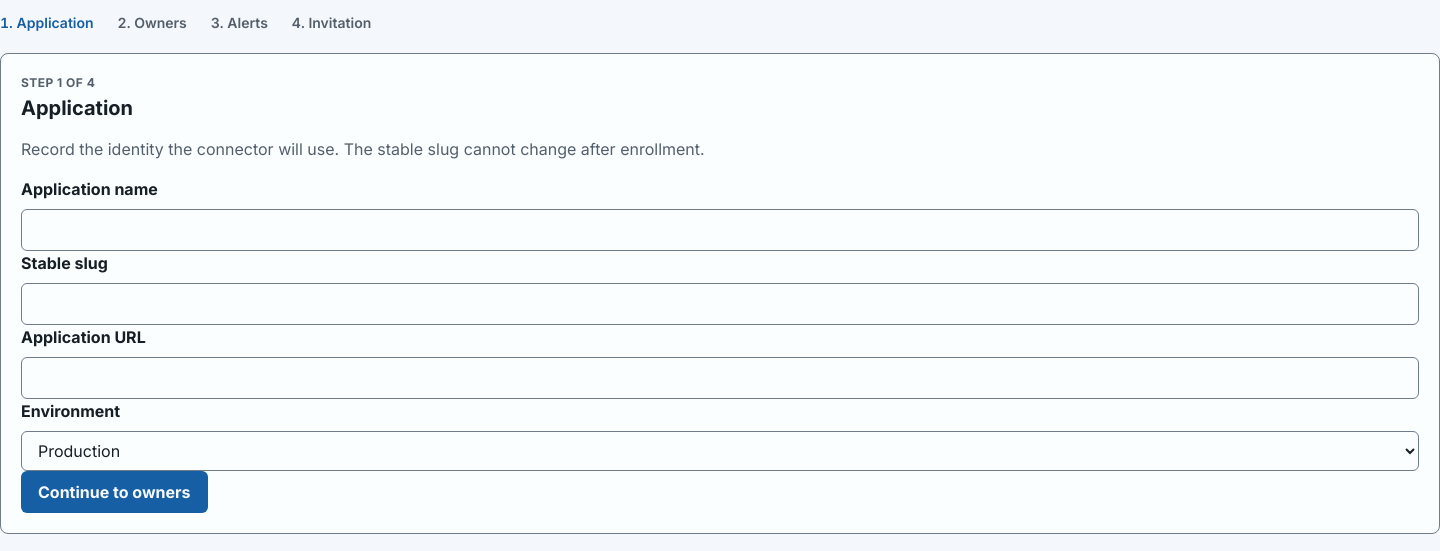
it: application enrollment flow › preserves entered values and reveals the returned invitation without browser persistence
The width and height of the screenshot is (1440, 551).
Step 1. Type "Atlas Checkout" into the field labelled "Application name" → (720, 230), box [21,209,1419,251]
Step 2. Type "atlas-checkout" into the field labelled "Stable slug" → (720, 304), box [21,283,1419,325]
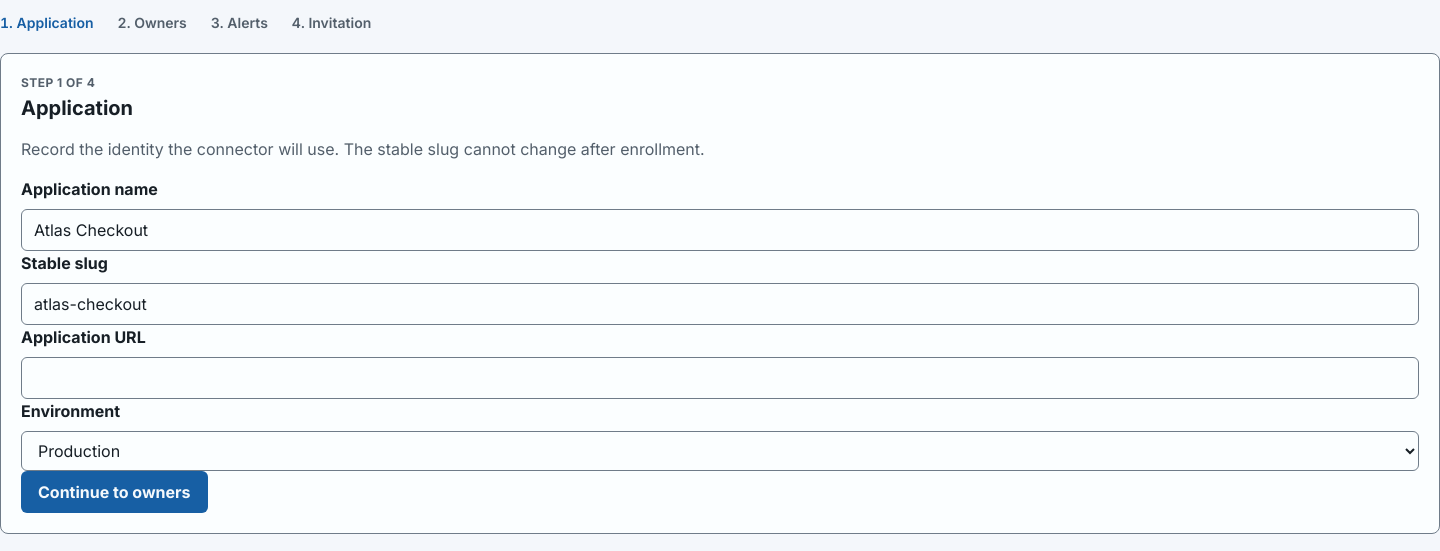
Step 3. Type "https://atlas.example.test" into the field labelled "Application URL" → (720, 378), box [21,357,1419,399]
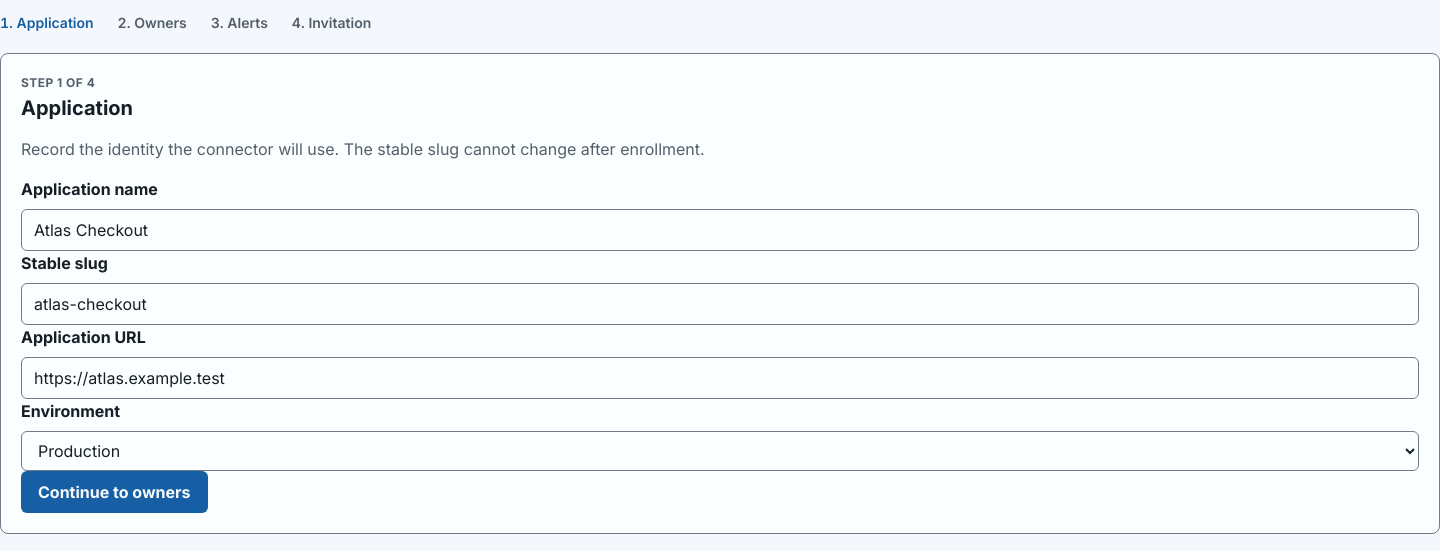
Step 4. Click the button "Continue to owners" → (114, 492), box [21,471,208,513]
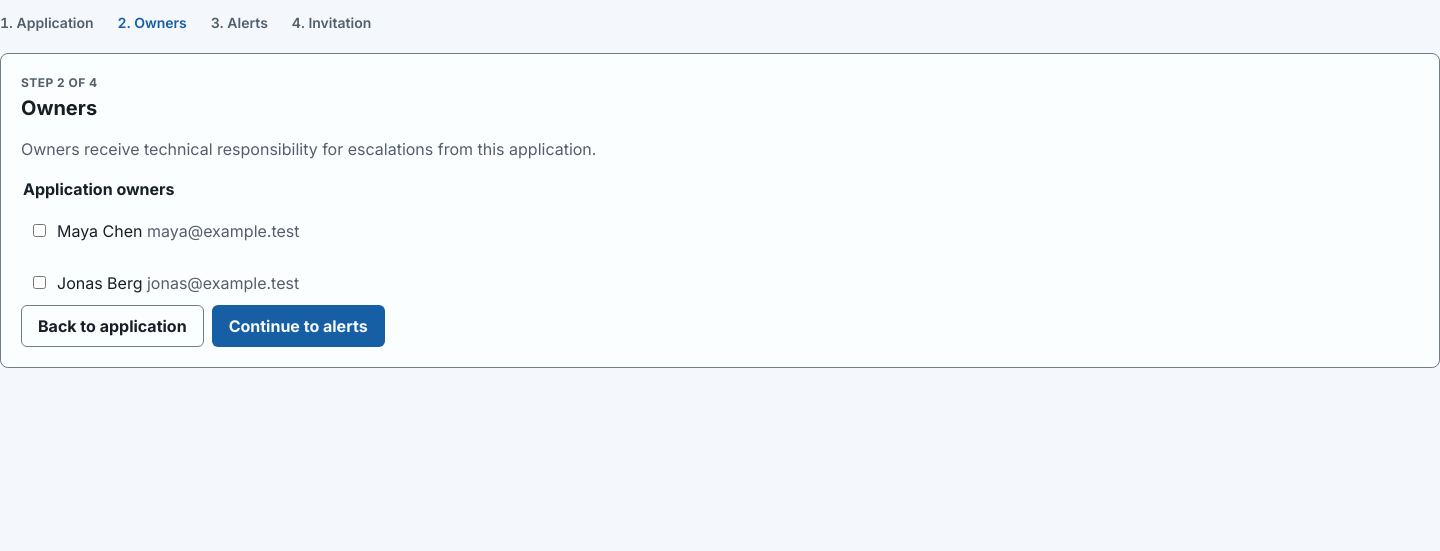
Step 5. Click the checkbox labelled "Maya Chen maya@example.test" → (40, 231), box [33,224,46,237]
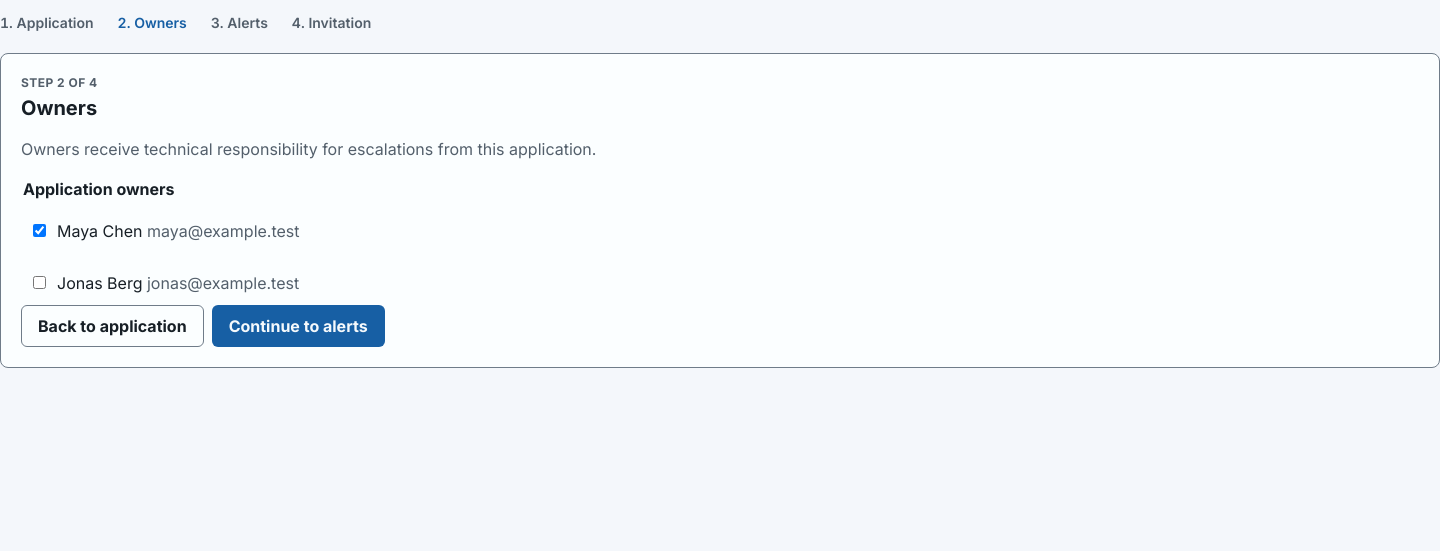
Step 6. Click the button "Continue to alerts" → (298, 326), box [212,305,385,347]
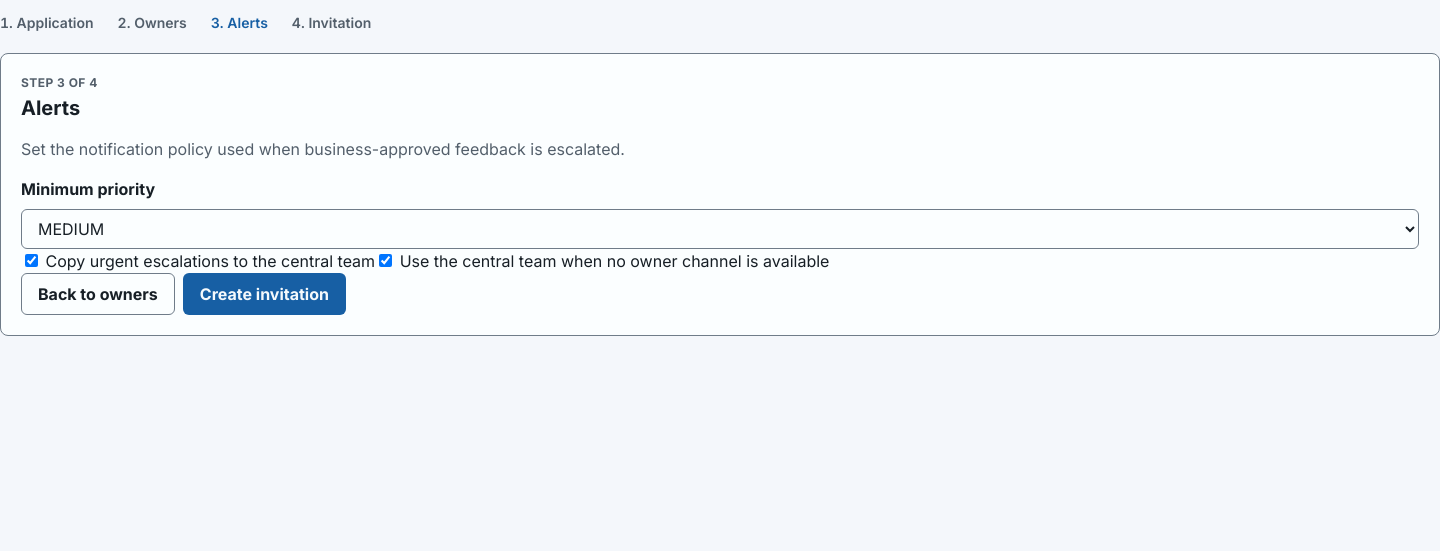
Step 7. Click the button "Create invitation" → (264, 294), box [183,273,346,315]
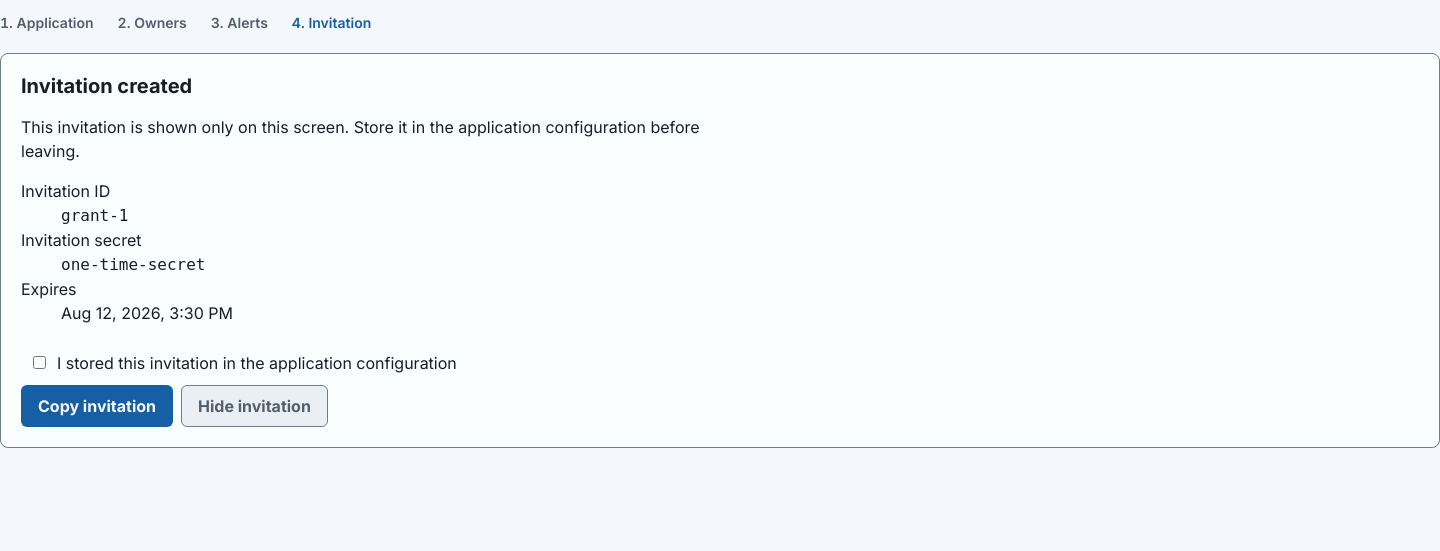
Now the text "one-time-secret" is shown, box [61,255,206,274]
Now the heading "Invitation created" is shown, box [21,74,192,98]
Now the text "shown only on this screen" is shown, box [21,117,700,161]
